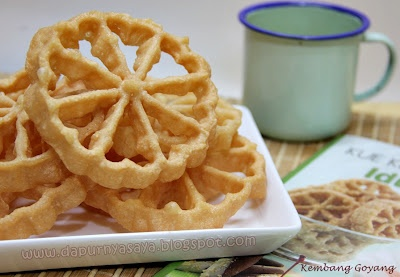kembang_goyang: (26, 13, 223, 179)
